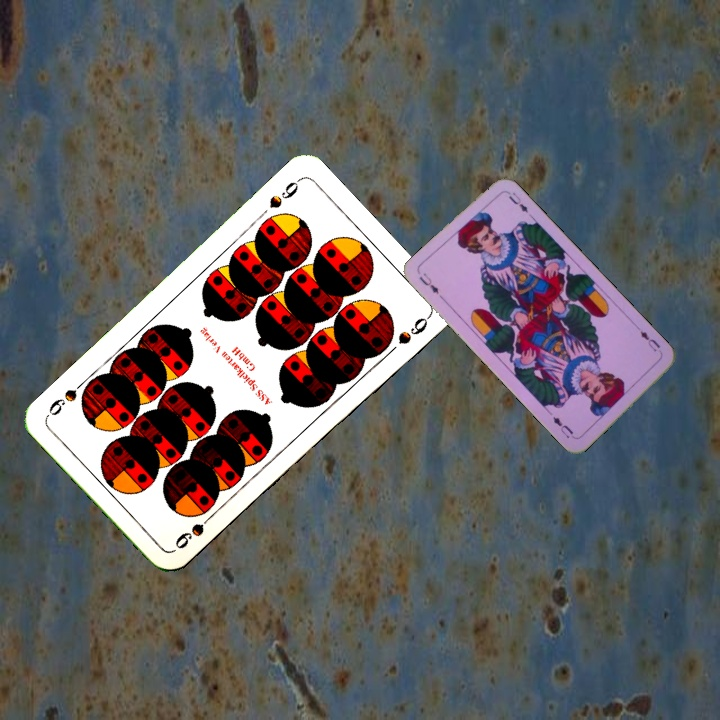EU: (636, 326, 663, 354), (415, 268, 441, 296)
S9: (171, 507, 219, 552), (265, 174, 303, 211)
